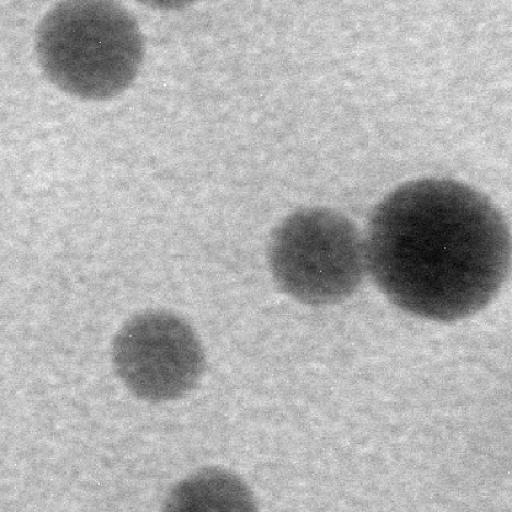Nanoparticles: (368, 173, 512, 337), (264, 203, 367, 319), (30, 0, 146, 102), (110, 306, 210, 406), (162, 463, 258, 512), (135, 0, 189, 8)
